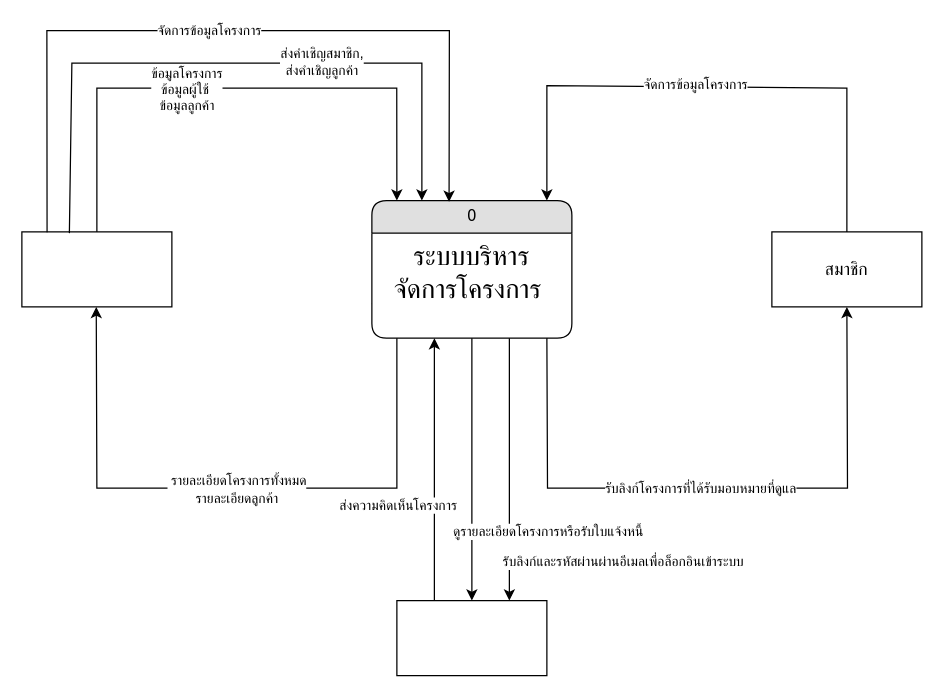
Image size: 944x698. Some labels were removed from this diagram. Each missing label, with the centre of its shape:
ผู้ใช้: [96,269]
ลูกค้า: [471,637]
